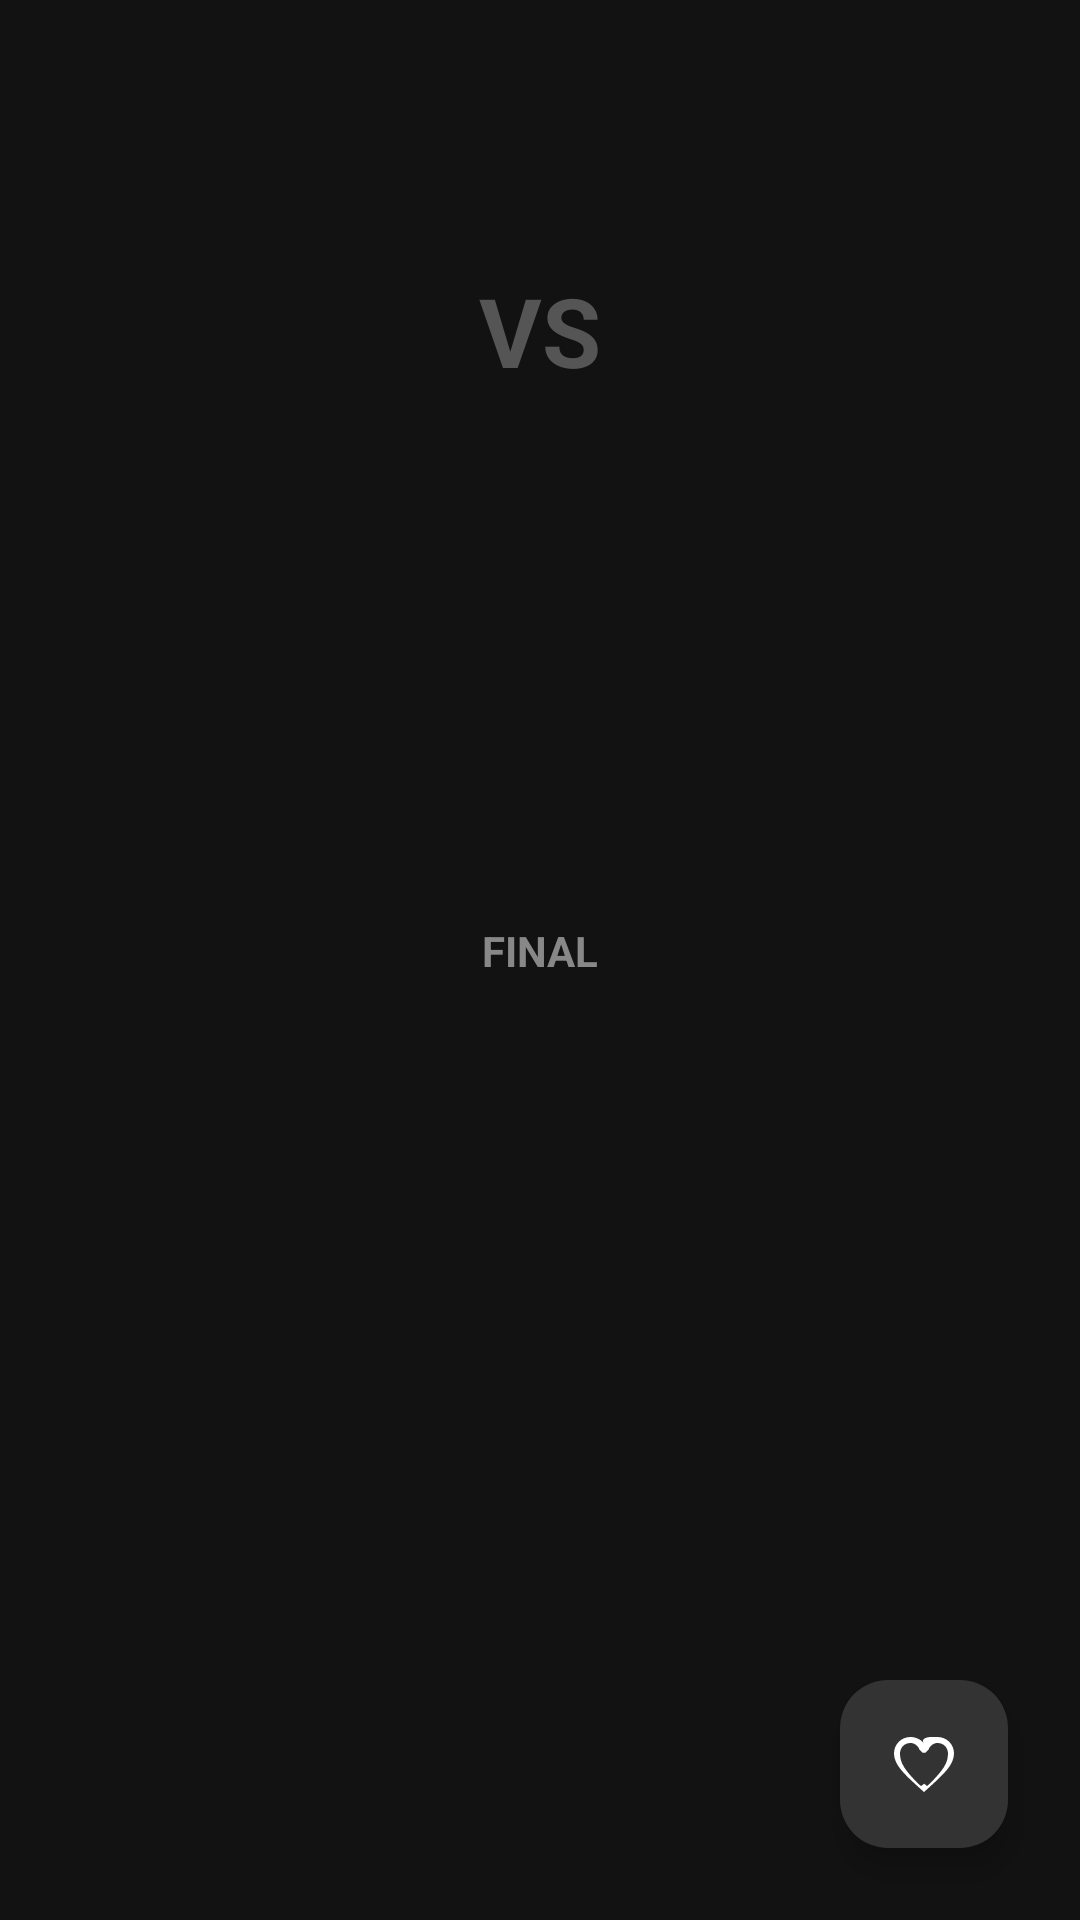

Where to tap for icons on this 1080 × 1920 app screen, as point (x, y):
Save Game: point (924, 1764)
